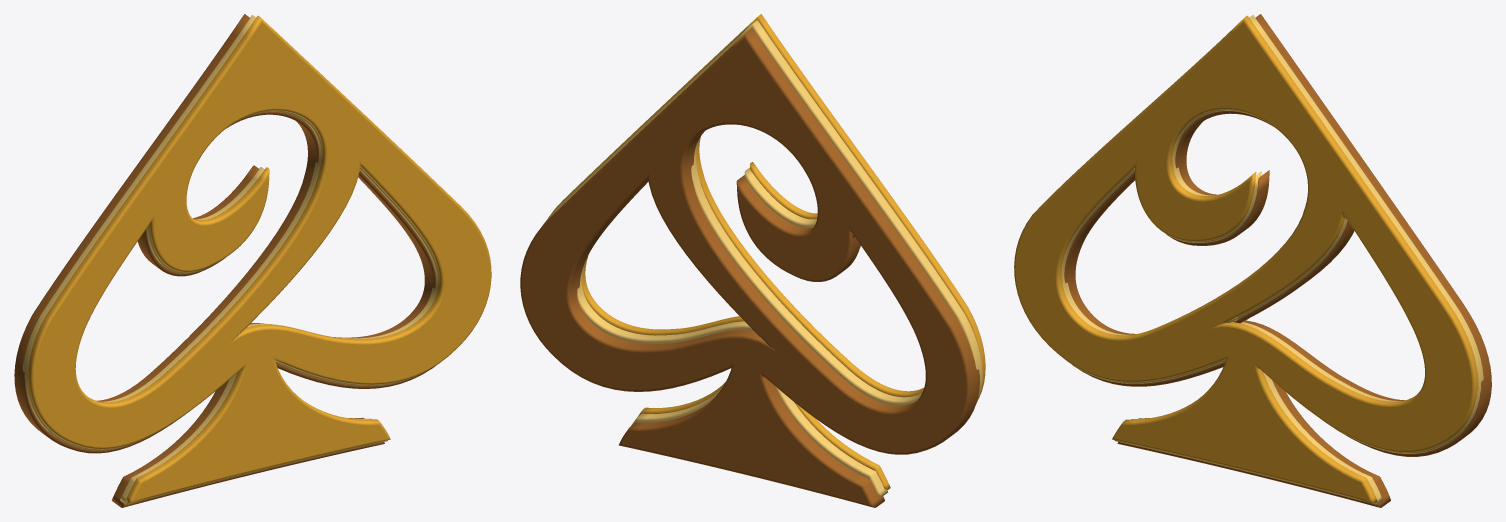
The model's file is gold-spade-2.glb.
The picture shows the model from 3 angles, left to right: view 1: azimuth 30°, elevation 25°; view 2: azimuth 150°, elevation 25°; view 3: azimuth 330°, elevation 25°; orthographic projection. The views are drawn at different scales.
Parts seen in each view (by area): view 1: Spade 2 | Gold face | Web, Spade 2 | Bronze foundation | Web, Spade 2 | Polished edge | Web; view 2: Spade 2 | Bronze foundation | Web, Spade 2 | Polished edge | Web, Spade 2 | Gold face | Web; view 3: Spade 2 | Gold face | Web, Spade 2 | Bronze foundation | Web, Spade 2 | Polished edge | Web.
Part boxes in pixels (x1=…): Spade 2 | Gold face | Web: x1=28, y1=15, x2=491, y2=503; Spade 2 | Bronze foundation | Web: x1=14, y1=14, x2=435, y2=507; Spade 2 | Polished edge | Web: x1=23, y1=15, x2=438, y2=504; Spade 2 | Bronze foundation | Web: x1=520, y1=29, x2=979, y2=507; Spade 2 | Polished edge | Web: x1=543, y1=20, x2=982, y2=496; Spade 2 | Gold face | Web: x1=549, y1=14, x2=985, y2=489; Spade 2 | Gold face | Web: x1=1014, y1=15, x2=1478, y2=503; Spade 2 | Bronze foundation | Web: x1=1064, y1=14, x2=1491, y2=507; Spade 2 | Polished edge | Web: x1=1061, y1=15, x2=1483, y2=504.
Size of the model in its own units: 11.36 by 10.89 by 0.78.
